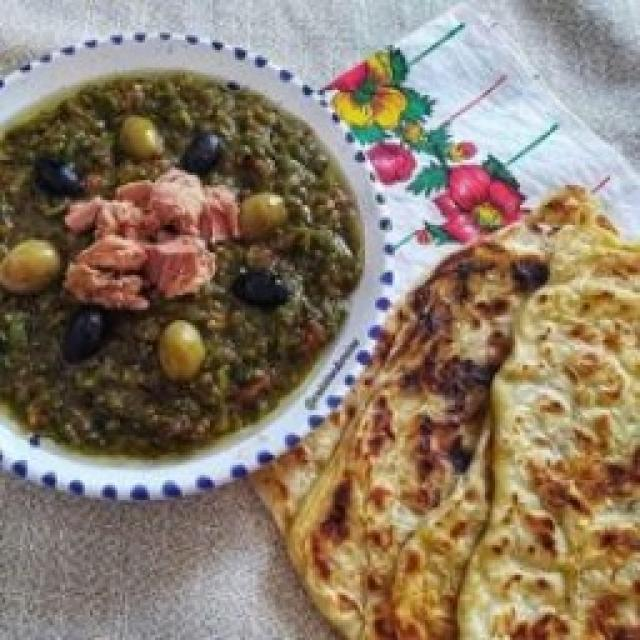Salade mechweya: (0, 72, 362, 457)
